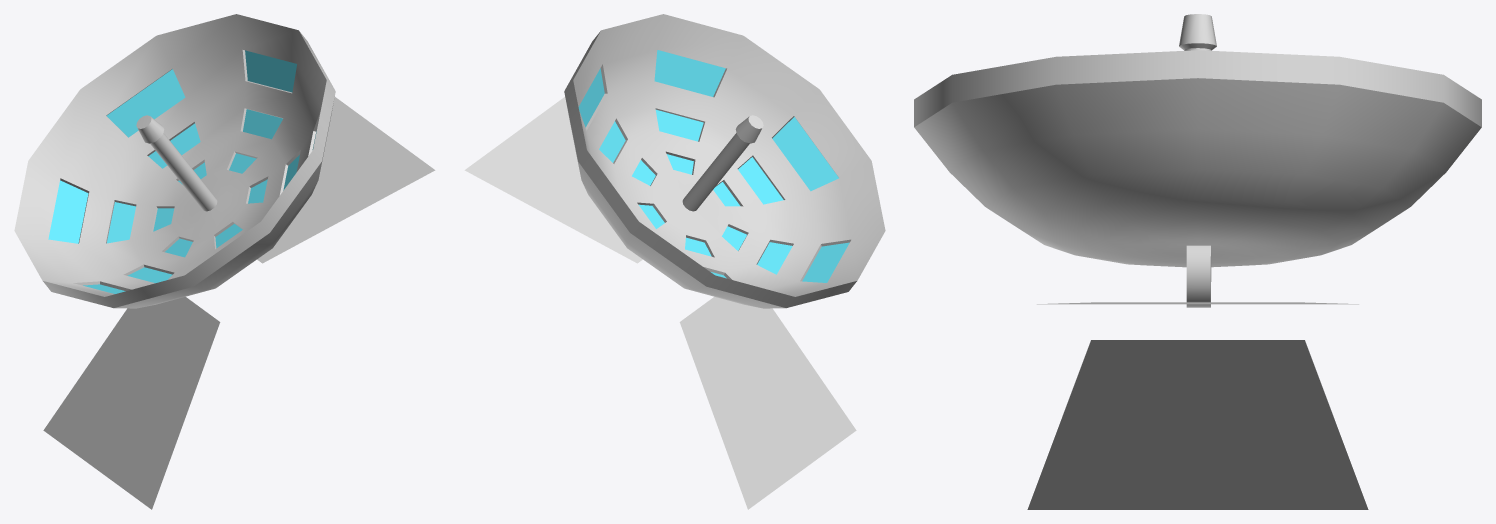
Rendered from Mod_Pauldron_R_Recon2.fbx.
The picture shows the model from 3 angles, left to right: view 1: azimuth 30°, elevation 25°; view 2: azimuth 150°, elevation 25°; view 3: azimuth 270°, elevation 25°; orthographic projection. The views are drawn at different scales.
Visible parts, largest first — view 1: Mod_Pauldron_R_Recon2; view 2: Mod_Pauldron_R_Recon2; view 3: Mod_Pauldron_R_Recon2.
Boxes of the visible parts, left/top/right/bottom form: Mod_Pauldron_R_Recon2: left=14, top=14, right=435, bottom=509; Mod_Pauldron_R_Recon2: left=464, top=14, right=885, bottom=509; Mod_Pauldron_R_Recon2: left=914, top=14, right=1481, bottom=509.
Size of the model in its own units: 260 by 286 by 240.
